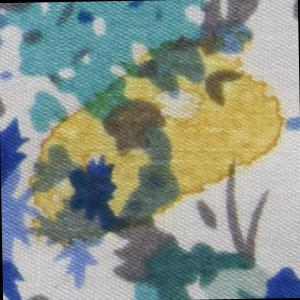Oil Stain: (25, 26, 289, 253)
